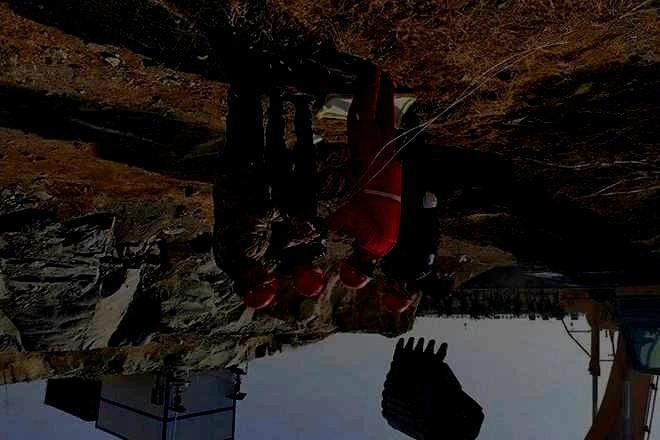helmet: (238, 268, 277, 309), (339, 251, 375, 290), (378, 279, 414, 314), (293, 265, 326, 298)
